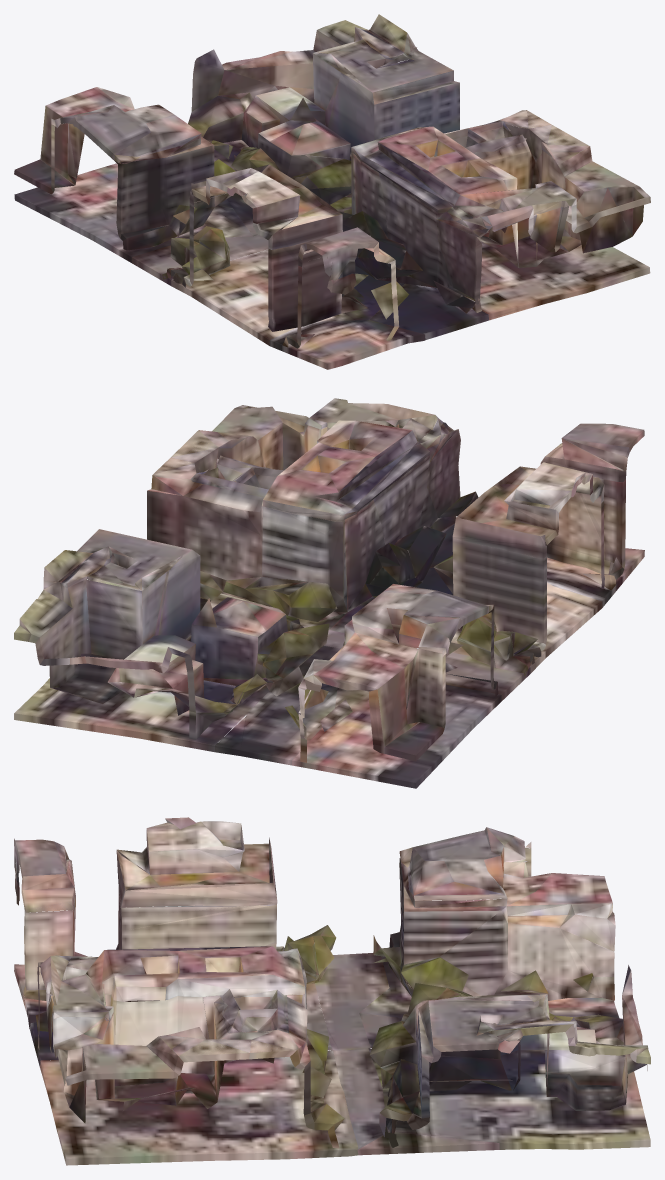
3 views of the same model, one above another, from view 1: azimuth 30°, elevation 25°; view 2: azimuth 150°, elevation 25°; view 3: azimuth 270°, elevation 25° (orthographic). The views are drawn at different scales.
Visible parts, largest first — view 1: Mesh_0; view 2: Mesh_0; view 3: Mesh_0.
Part boxes in pixels (<box>): Mesh_0: <box>14,14,650,369</box>; Mesh_0: <box>14,398,644,788</box>; Mesh_0: <box>14,817,650,1165</box>.
Bounding box in the file's own units: 133 × 45.87 × 165.
Materials: 1 (1 with a texture image).
